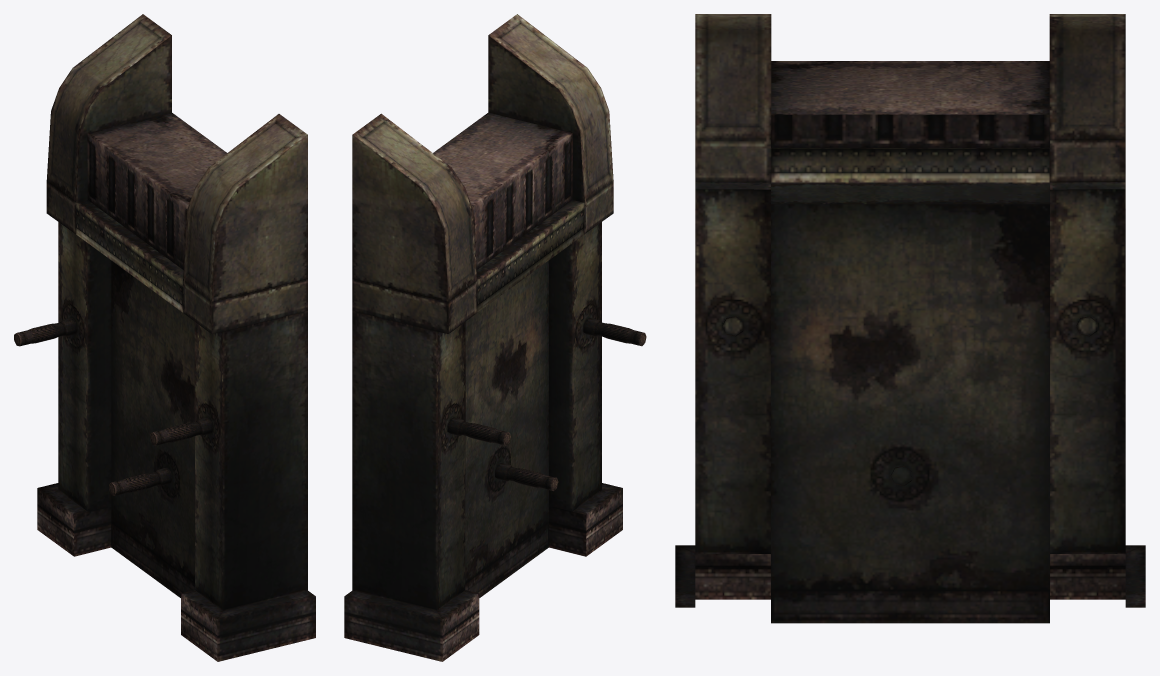
Rendered from cogwheel_spokes.dae.
The picture shows the model from 3 angles, left to right: view 1: azimuth 30°, elevation 25°; view 2: azimuth 150°, elevation 25°; view 3: azimuth 270°, elevation 25°; orthographic projection. The views are drawn at different scales.
Visible parts, largest first — view 1: polySurface67; view 2: polySurface67; view 3: polySurface67.
Boxes of the visible parts, x1=… form: polySurface67: x1=14, y1=14, x2=315, y2=661; polySurface67: x1=344, y1=14, x2=646, y2=661; polySurface67: x1=675, y1=14, x2=1145, y2=623.
Bounding box in the file's own units: 0.9556 × 3.23 × 2.13.
